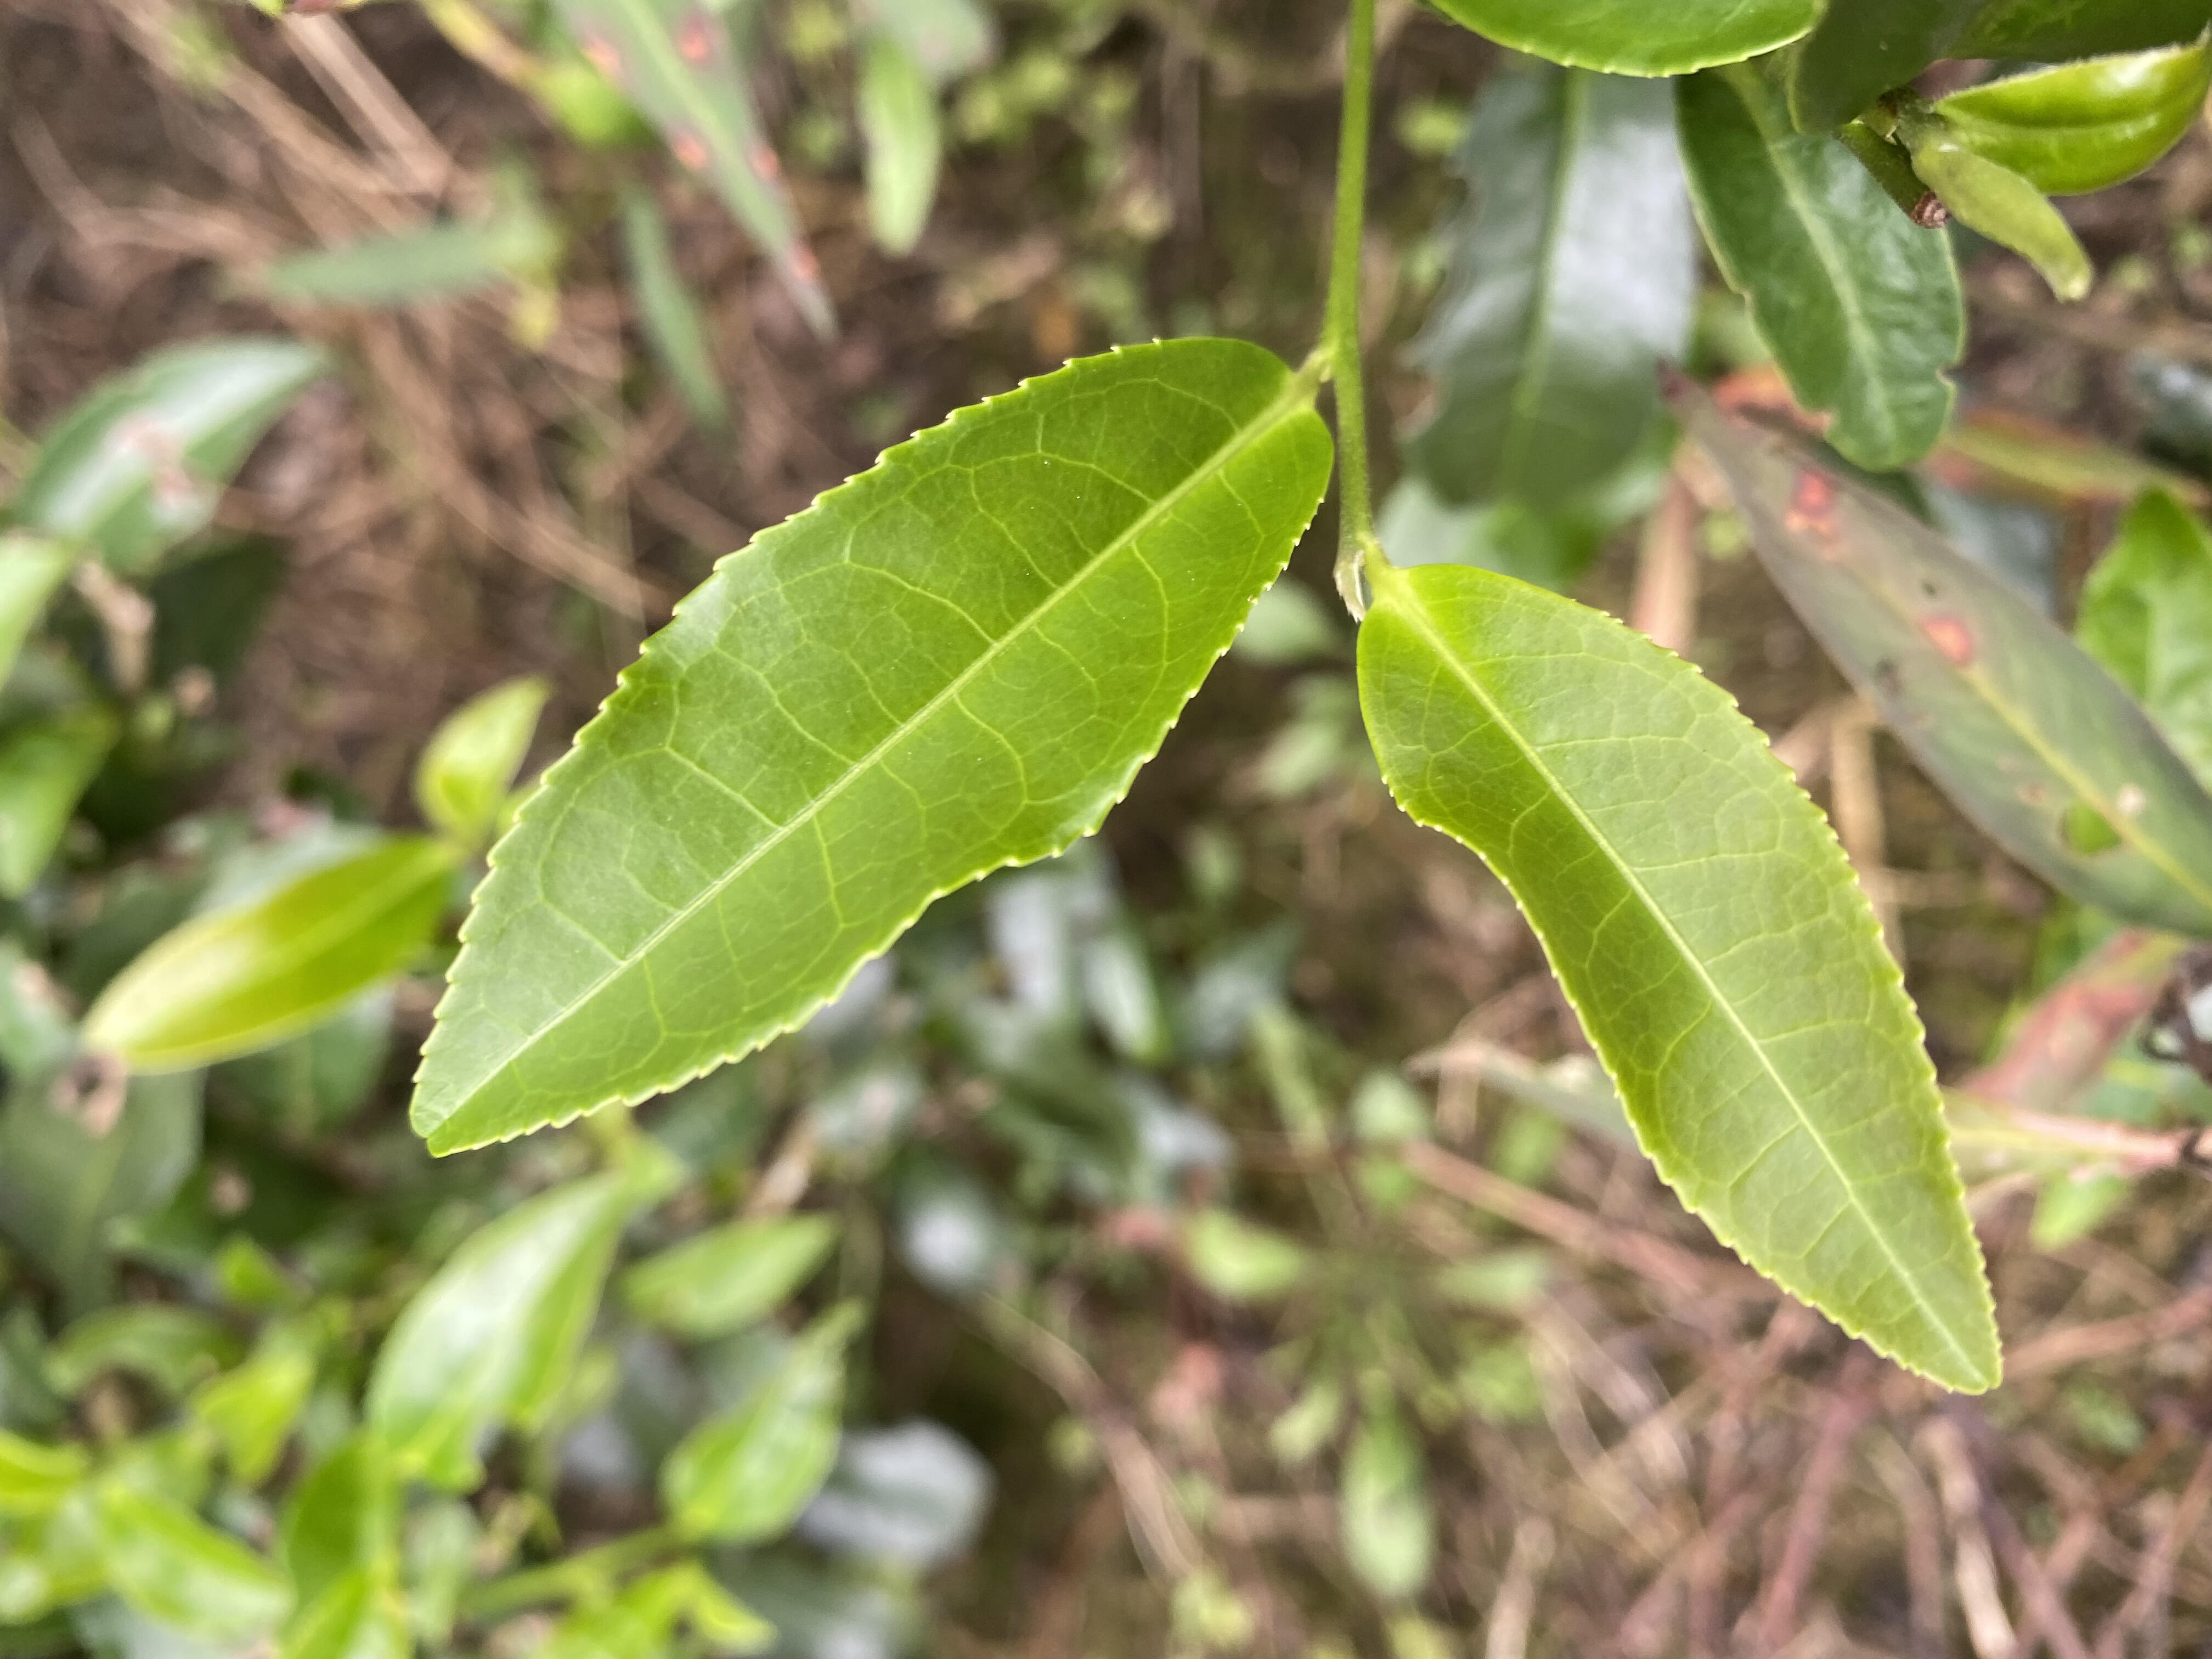healthy: (404, 331, 1336, 1162), (1355, 565, 2005, 1396)
